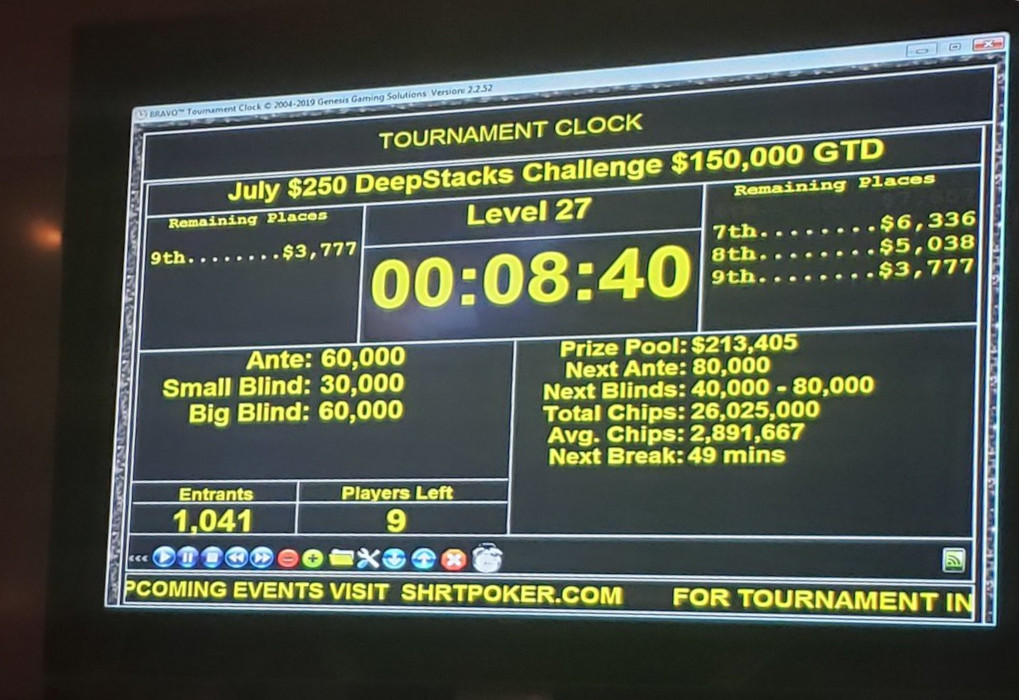PlayersLeft: (293, 477, 512, 538)
Remaining: (704, 164, 984, 334), (139, 200, 367, 348)
TournamentClock: (134, 172, 979, 544)
